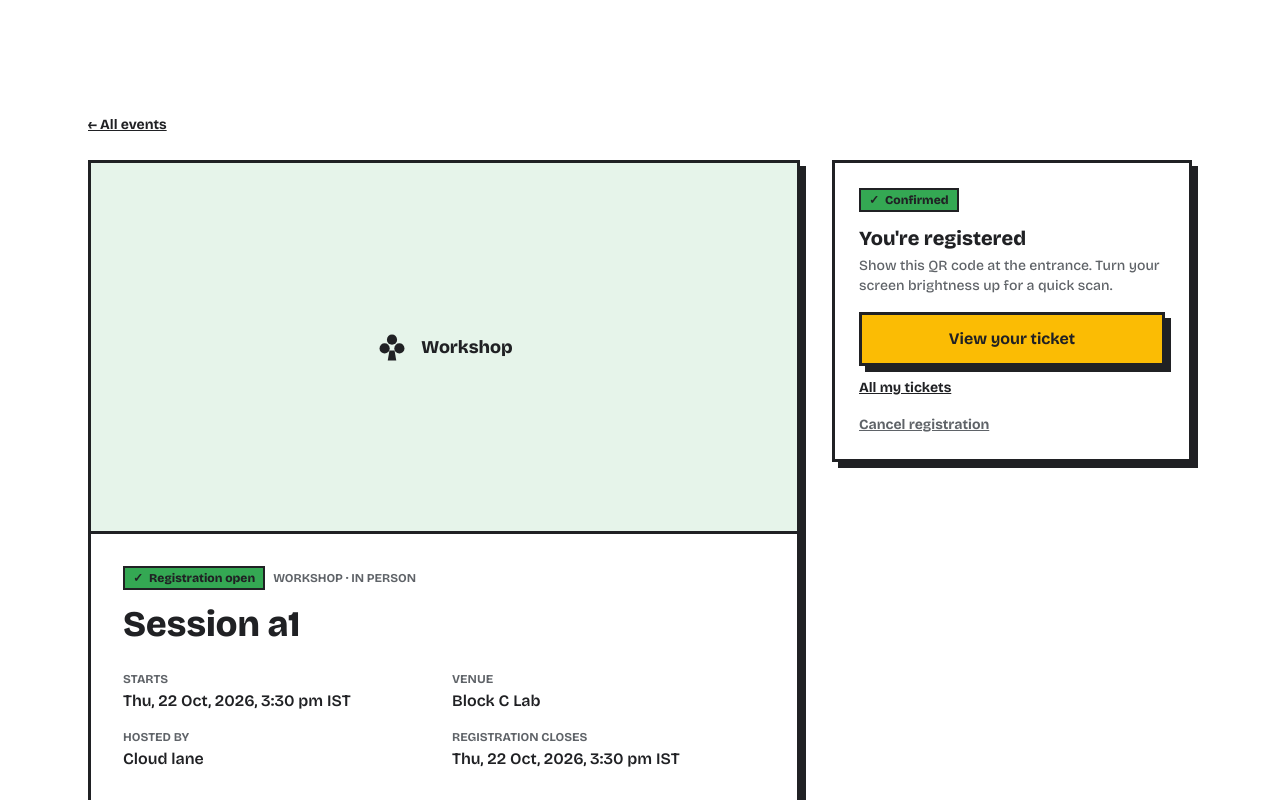
Scenario: a failed cancellation keeps the seat and explains why
This screenshot has width=1280, height=800.
Click the button "Cancel registration". click: x=924, y=425
box: [859, 415, 989, 435]
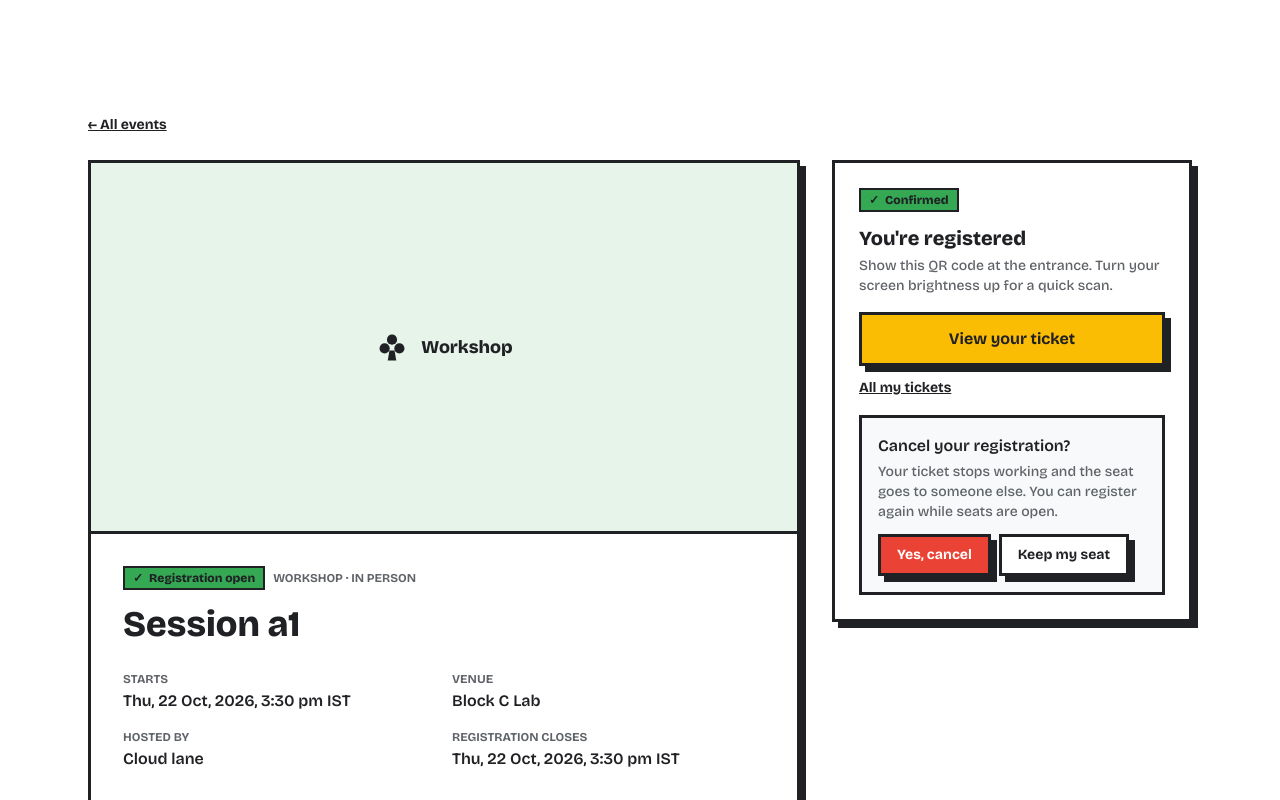
Click the button "Yes, cancel". click: x=934, y=555
box: [878, 534, 991, 576]
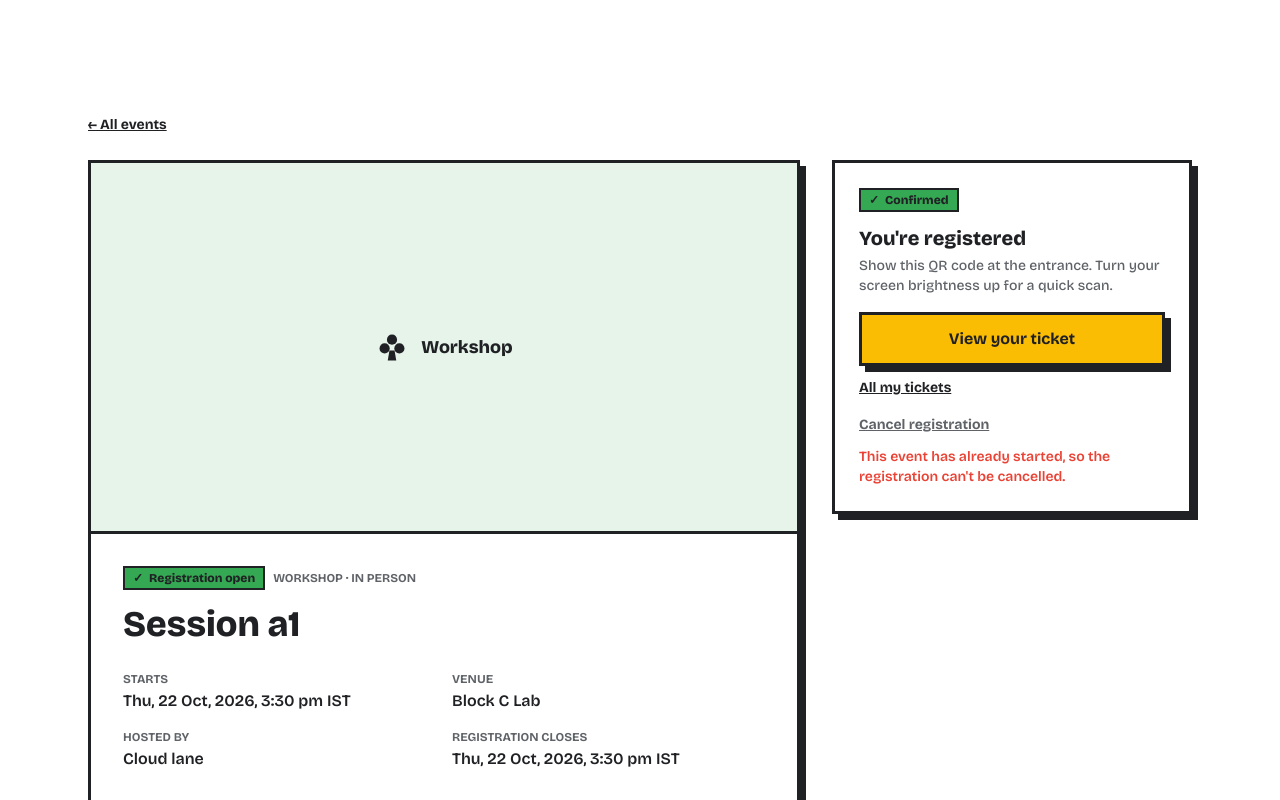
Expected: the text "You're registered" is shown, [859, 226, 1026, 250]
Result: the text "This event has already started, so the registration can't be cancelled." is shown at [859, 448, 1110, 485]
